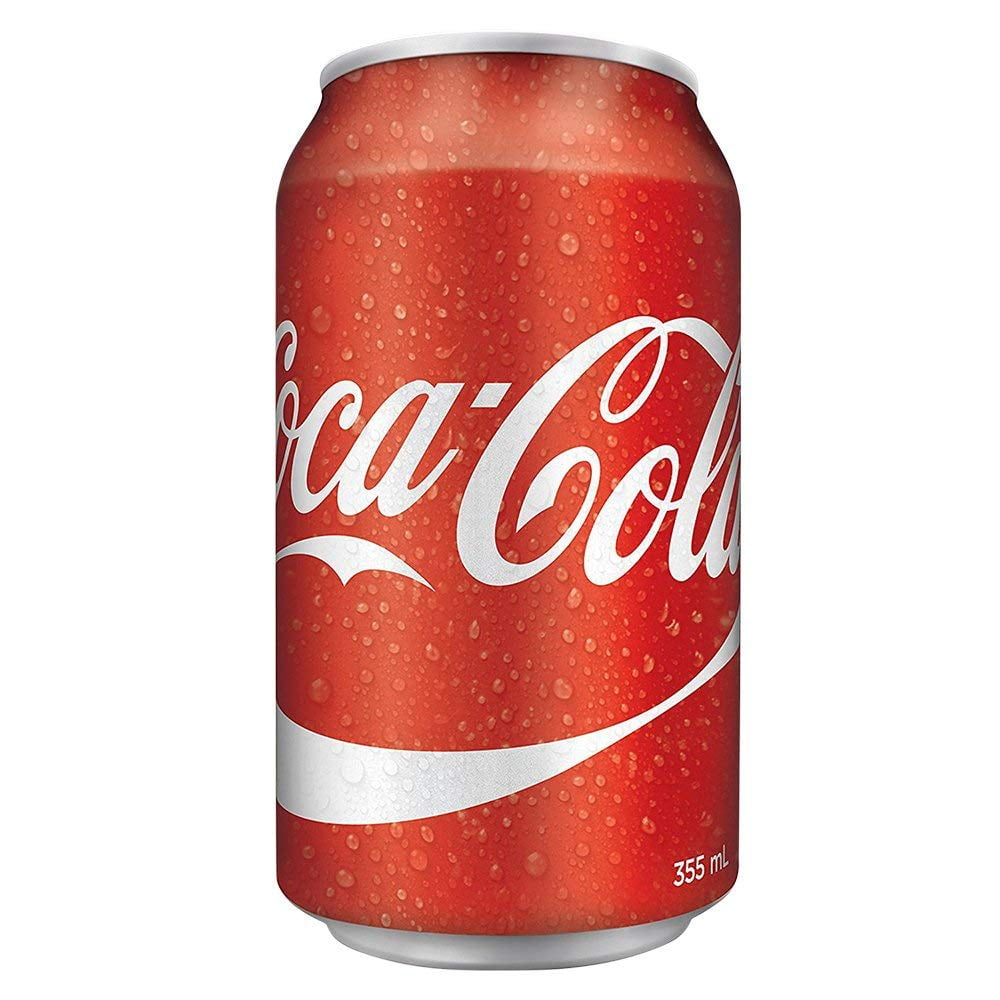can: (266, 23, 755, 974)
